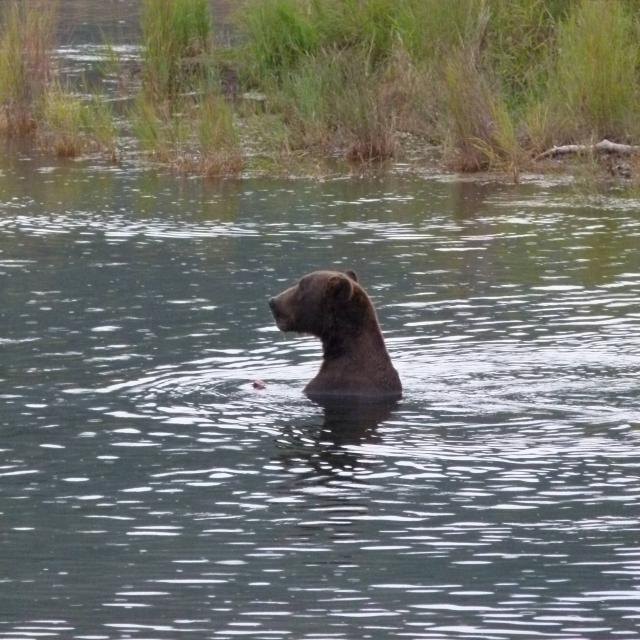bear face: (268, 269, 398, 403)
